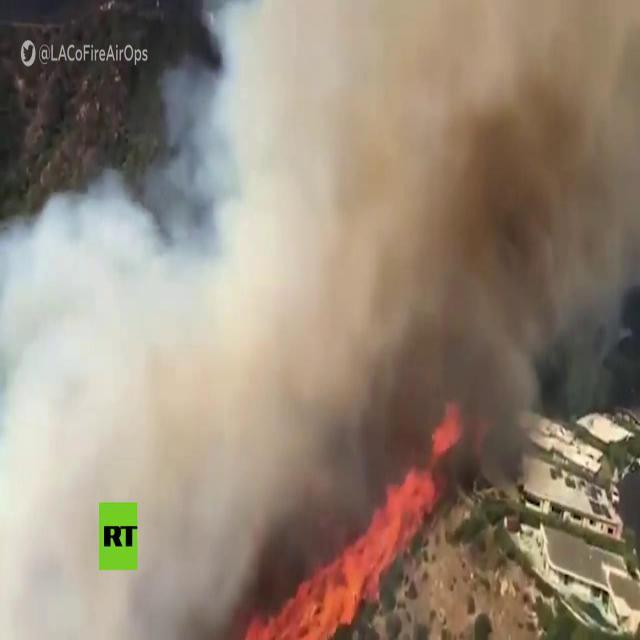Fire: (250, 414, 462, 639)
